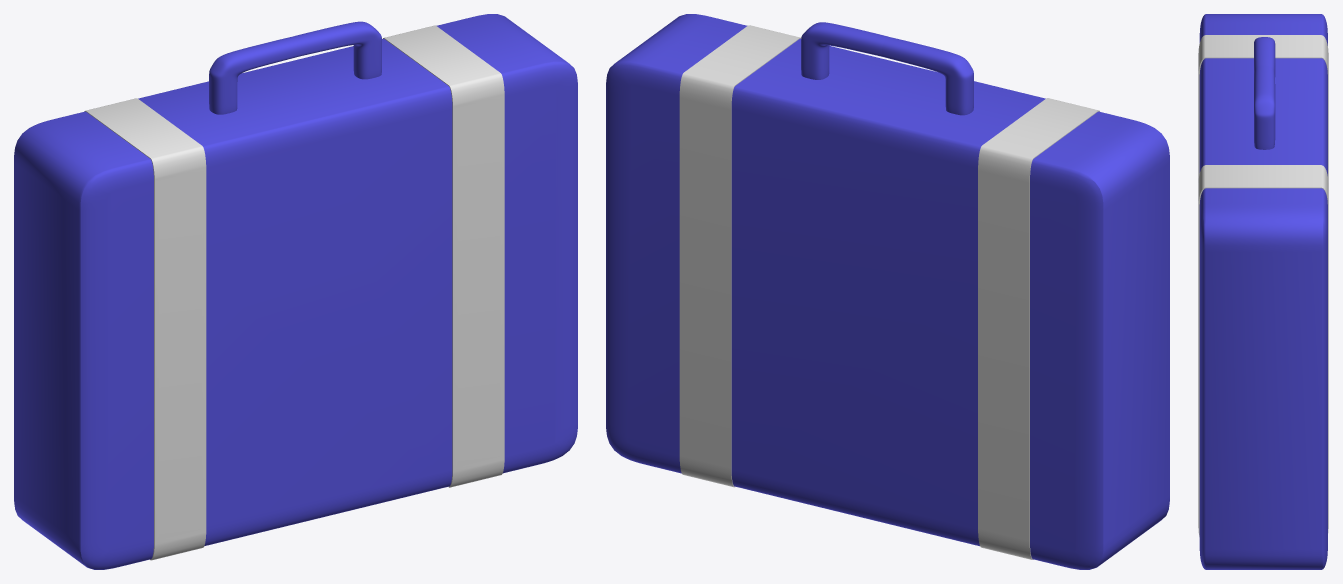
The model's file is luggage.glb.
The picture shows the model from 3 angles, left to right: view 1: azimuth 30°, elevation 25°; view 2: azimuth 150°, elevation 25°; view 3: azimuth 270°, elevation 25°; orthographic projection. The views are drawn at different scales.
Parts seen in each view (by area): view 1: Luggage; view 2: Luggage; view 3: Luggage.
Boxes of the visible parts, x1,y1,x2,y2 form: Luggage: (14, 14, 577, 569); Luggage: (606, 14, 1169, 569); Luggage: (1198, 14, 1328, 569).
Size of the model in its own units: 27.5 by 23.95 by 6.96.
